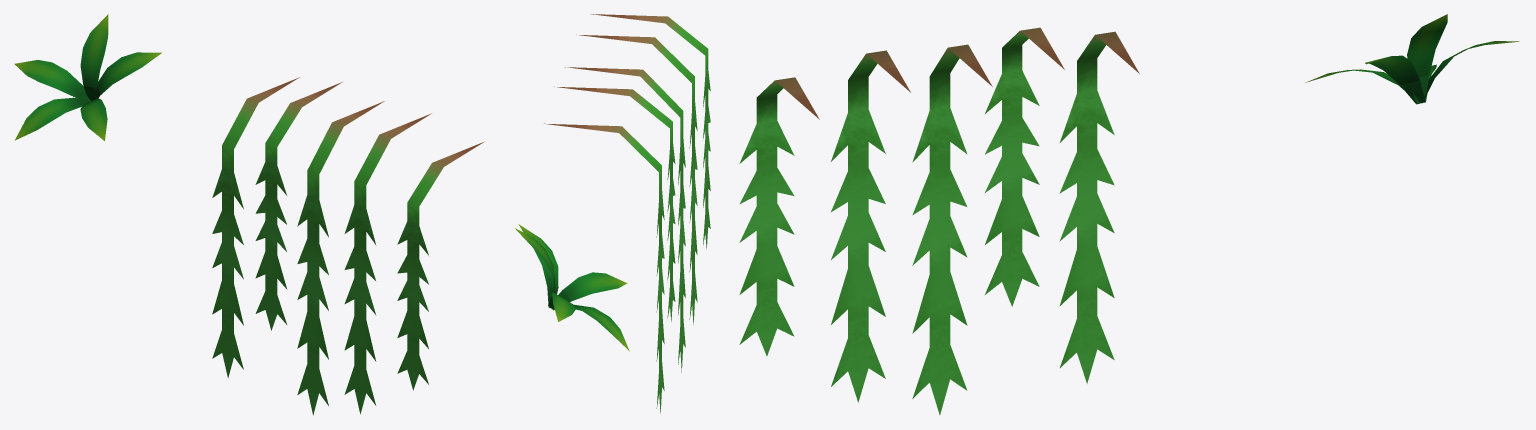
The model's file is Asset_Plants_Cliff_Right.fbx.
3 renders of one model, left to right at view 1: azimuth 30°, elevation 25°; view 2: azimuth 150°, elevation 25°; view 3: azimuth 270°, elevation 25°, orthographic. The views are drawn at different scales.
Parts seen in each view (by area): view 1: polySurface601; view 2: polySurface601; view 3: polySurface601.
Boxes of the visible parts, x1=… form: polySurface601: x1=14, y1=14, x2=484, y2=415; polySurface601: x1=515, y1=14, x2=710, y2=413; polySurface601: x1=739, y1=14, x2=1519, y2=415.
Size of the model in its own units: 1107 by 1178 by 2100.
